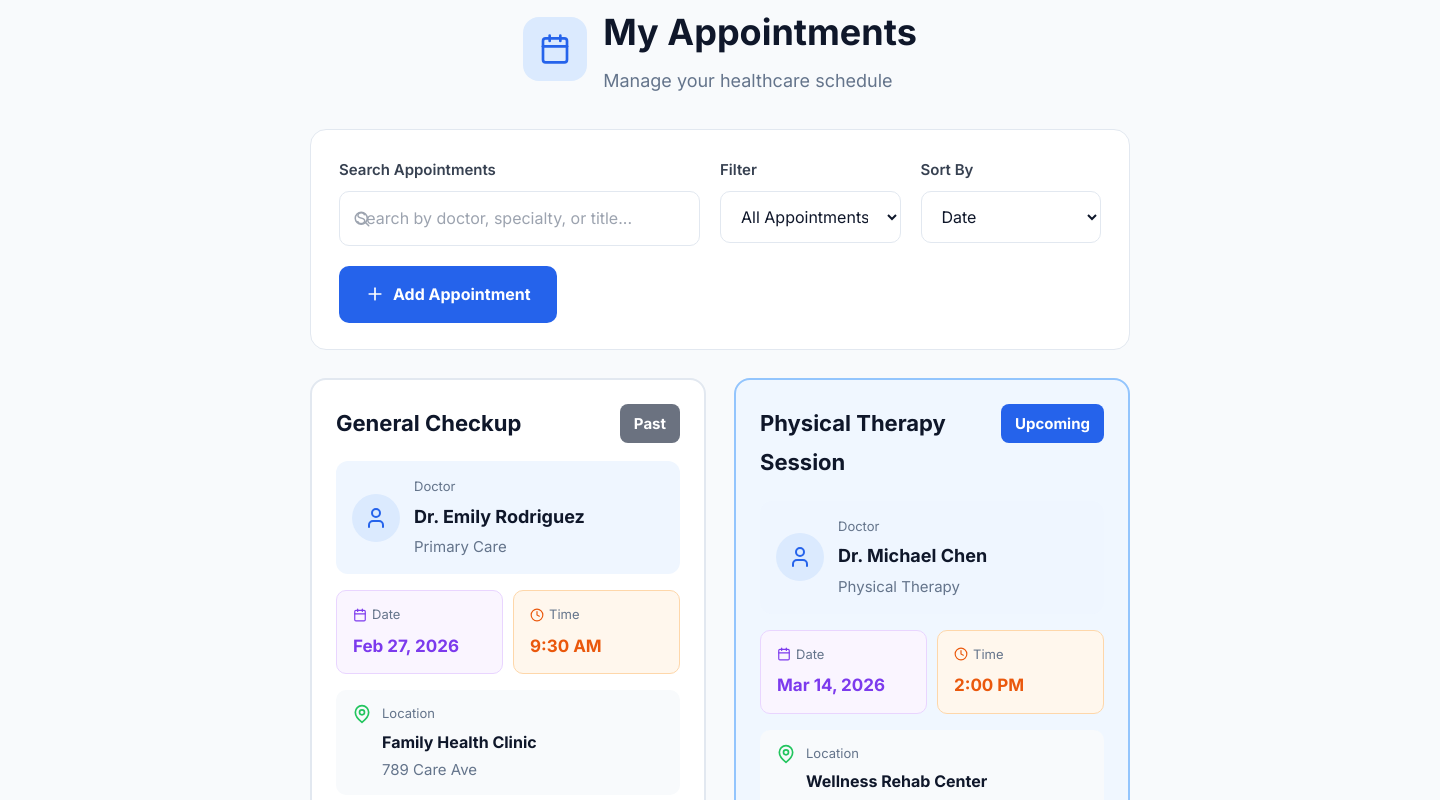
Scenario: AppointmentsPage › opens add appointment modal
Step 1. Click the button "Add Appointment" → (448, 294), box [339,266,557,323]
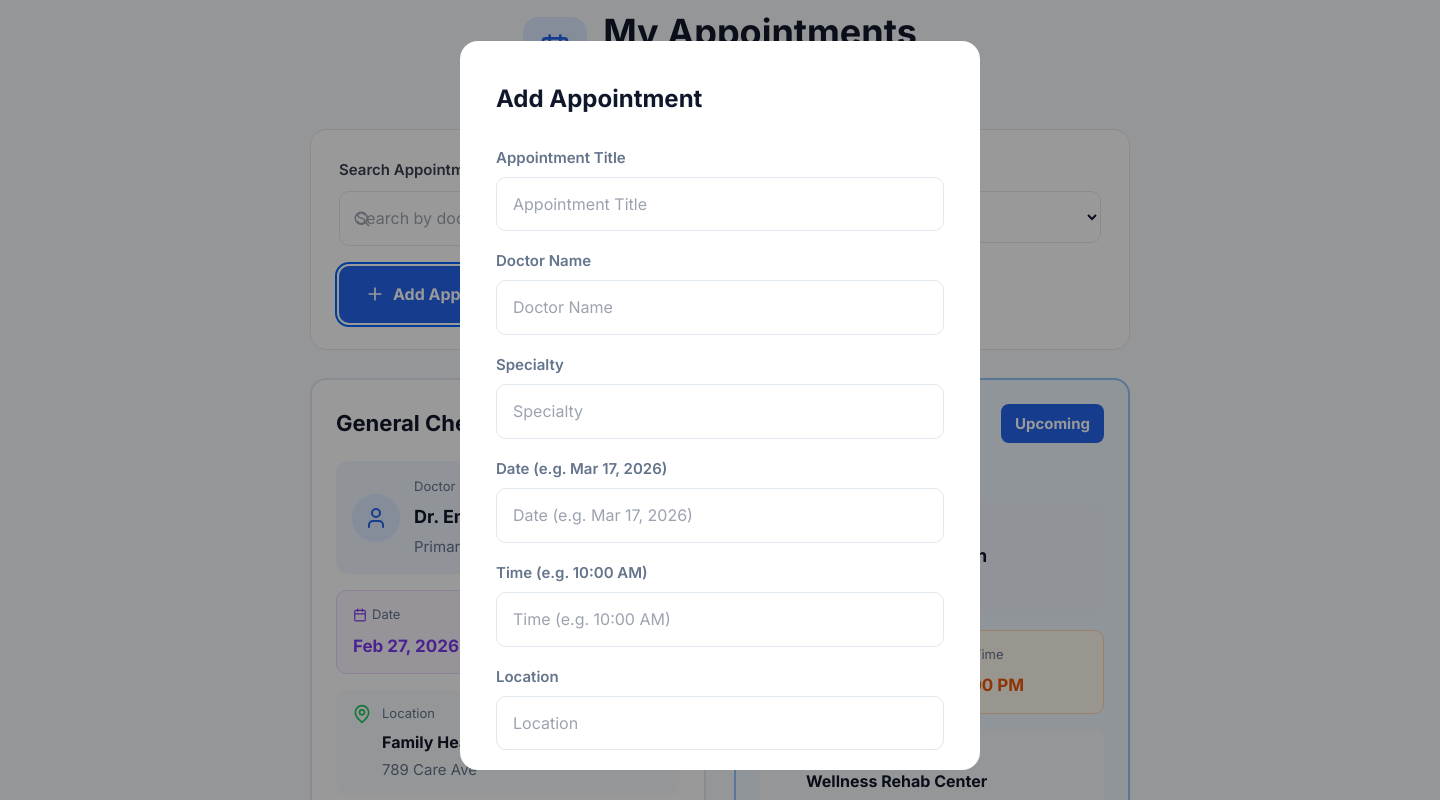
Now the field with placeholder "Appointment Title" is shown, box [496,177,944,232]
Now the field with placeholder "Doctor Name" is shown, box [496,280,944,335]
